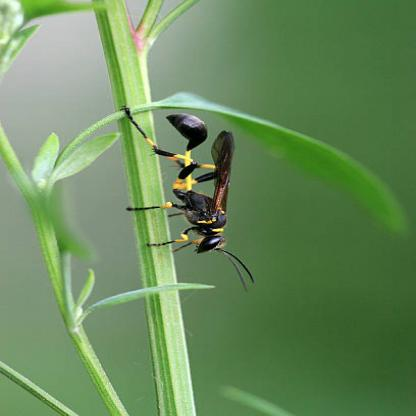sawfly: (114, 103, 270, 298)
